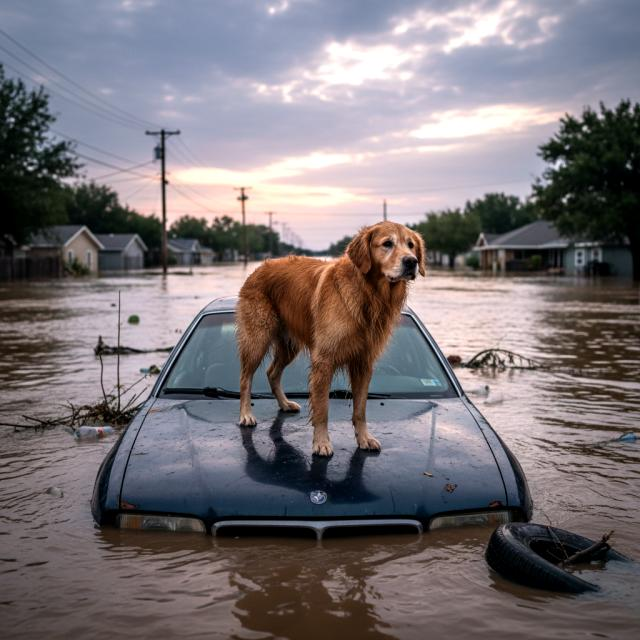dog: (228, 216, 431, 468)
